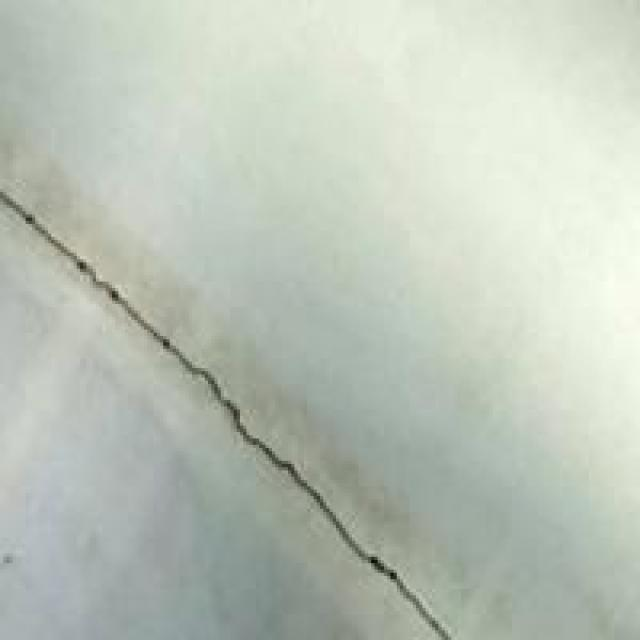Crack: (6, 160, 464, 637)
